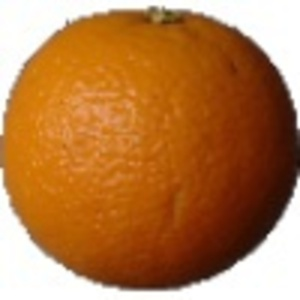laranja: (3, 4, 297, 292)
